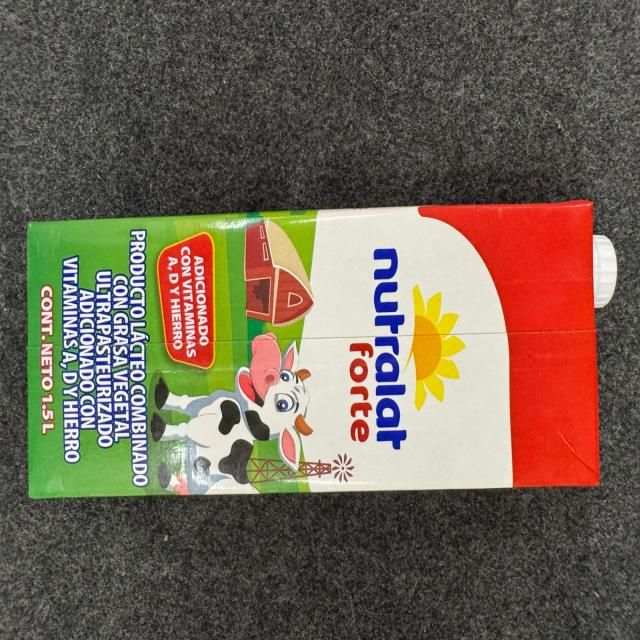PLC NUTRALAT FORTE 1.5 LT: (25, 195, 620, 503)
